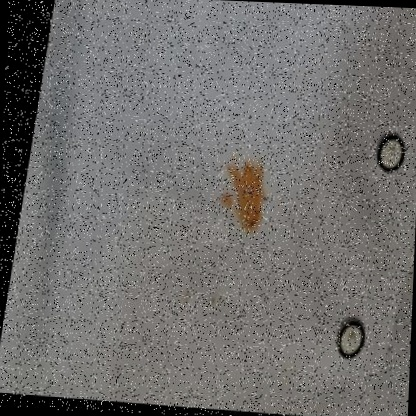kimchi: (204, 155, 276, 242)
